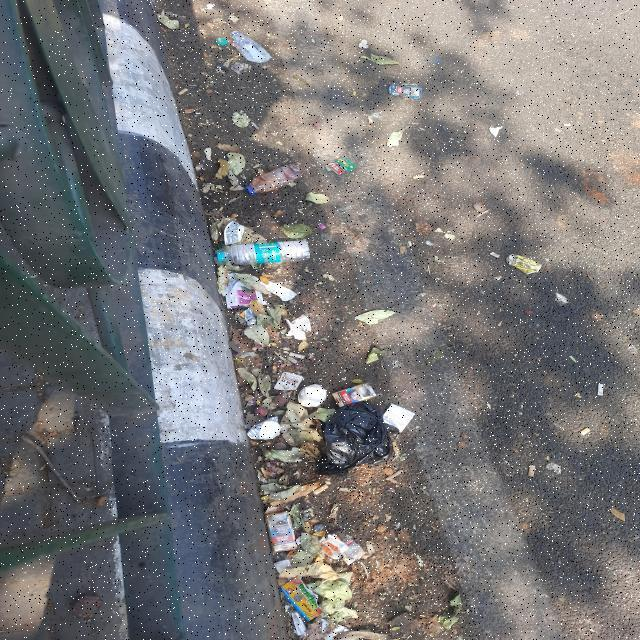Background: (153, 0, 640, 640)
Cig_bud: (312, 484, 329, 495), (288, 352, 305, 359), (392, 442, 401, 455), (367, 540, 375, 553), (578, 428, 590, 436), (287, 357, 298, 365), (597, 384, 604, 396), (528, 464, 535, 476), (178, 88, 188, 95), (489, 252, 500, 258), (251, 122, 259, 130), (412, 175, 424, 179)
Cig_pack: (265, 511, 297, 551), (332, 384, 377, 408), (388, 84, 422, 99)
Plastic: (215, 38, 228, 45)
Plastic_Bag: (315, 402, 392, 476)
Plastic_bottle: (245, 165, 303, 195), (232, 31, 272, 62)
Plastic_wraper: (282, 576, 322, 621), (320, 534, 365, 564), (507, 255, 542, 274), (273, 371, 303, 391), (325, 157, 356, 175), (318, 223, 326, 229)
